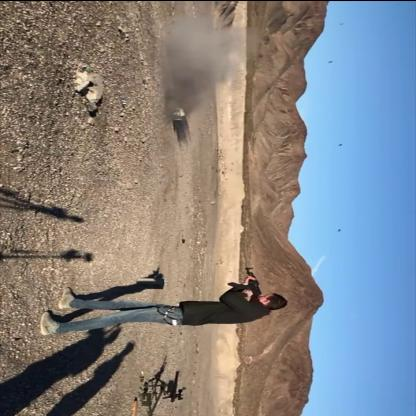long weapon: (146, 360, 188, 406), (225, 263, 266, 305)
